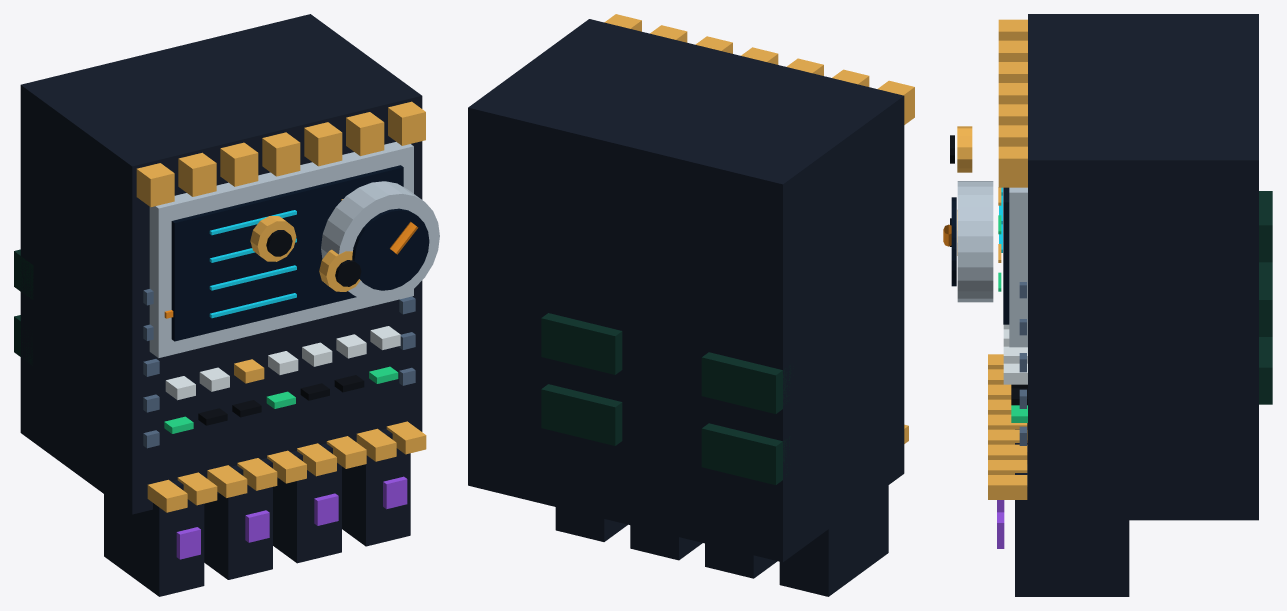
The model's file is 68_L91_PulseAmbiguityResolver.fbx.
3 renders of one model, left to right at view 1: azimuth 30°, elevation 25°; view 2: azimuth 150°, elevation 25°; view 3: azimuth 270°, elevation 25°, orthographic. The views are drawn at different scales.
Visible parts, largest first — view 1: L91_PulseAmbiguityResolver, L91_PulseAmbiguityResolver_Part_0013, L91_PulseAmbiguityResolver_Part_0014, L91_PulseAmbiguityResolver_Part_0016; view 2: L91_PulseAmbiguityResolver; view 3: L91_PulseAmbiguityResolver, L91_PulseAmbiguityResolver_Part_0014.
Boxes of the visible parts, bbox=[...] form: L91_PulseAmbiguityResolver: bbox=[14, 14, 439, 596]; L91_PulseAmbiguityResolver_Part_0013: bbox=[176, 476, 407, 559]; L91_PulseAmbiguityResolver_Part_0014: bbox=[250, 216, 296, 261]; L91_PulseAmbiguityResolver_Part_0016: bbox=[319, 249, 360, 291]; L91_PulseAmbiguityResolver: bbox=[468, 14, 914, 596]; L91_PulseAmbiguityResolver: bbox=[951, 14, 1272, 596]; L91_PulseAmbiguityResolver_Part_0014: bbox=[957, 126, 972, 172].
Bounding box in the file's own units: 96.9 × 138 × 92.1.
